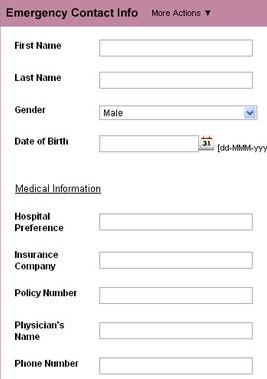field: (97, 321, 254, 340), (96, 38, 252, 57), (97, 286, 253, 305), (97, 212, 253, 231), (96, 251, 254, 269), (96, 72, 254, 89), (96, 356, 254, 373), (98, 105, 258, 121), (97, 134, 200, 152)
field_with_label: (15, 249, 255, 272), (14, 211, 256, 233), (13, 320, 255, 342), (13, 285, 256, 306), (14, 355, 257, 376), (13, 69, 255, 90), (14, 37, 255, 58), (15, 104, 261, 123), (14, 132, 202, 154)
